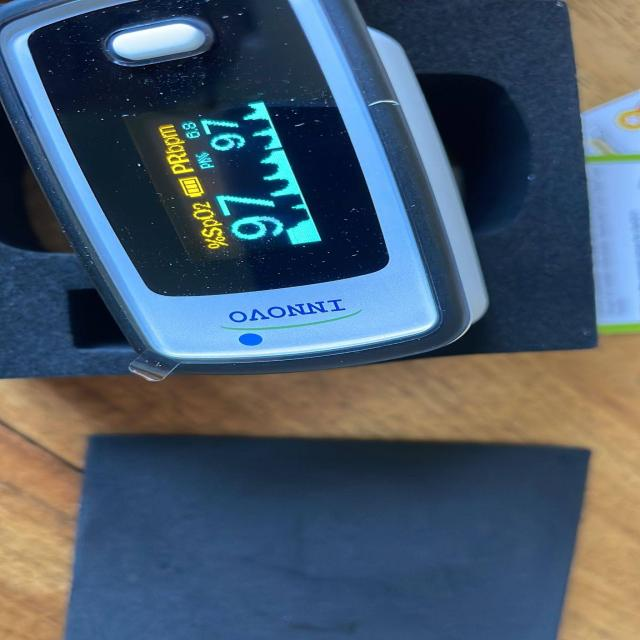spo2: (0, 0, 489, 380)
